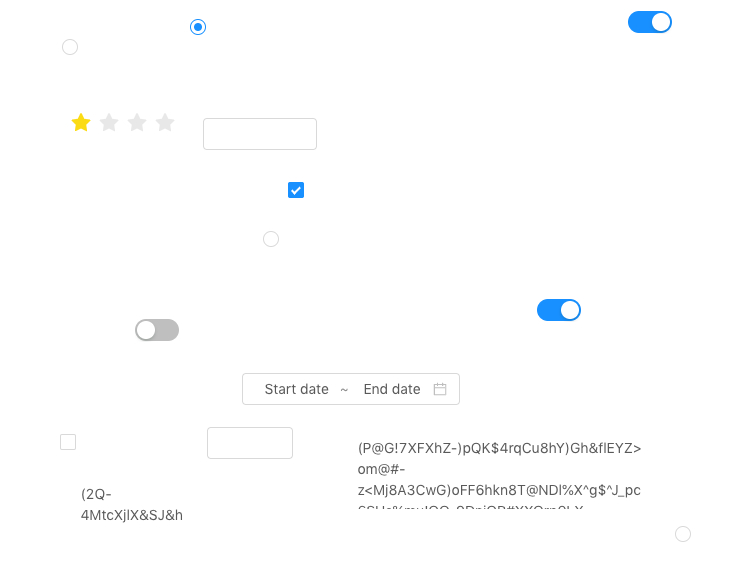Checkbox: (60, 431, 76, 452), (288, 179, 304, 200)
Input: (203, 118, 317, 150), (207, 427, 293, 459)
Radio: (675, 523, 691, 543), (263, 228, 279, 248), (62, 36, 78, 56), (190, 16, 206, 36)
RangePicker: (242, 373, 460, 405)
Rate: (71, 106, 191, 138)
Switch: (135, 318, 179, 342), (537, 298, 581, 322), (628, 10, 672, 34)
Text: (358, 437, 645, 509), (81, 483, 188, 525)
